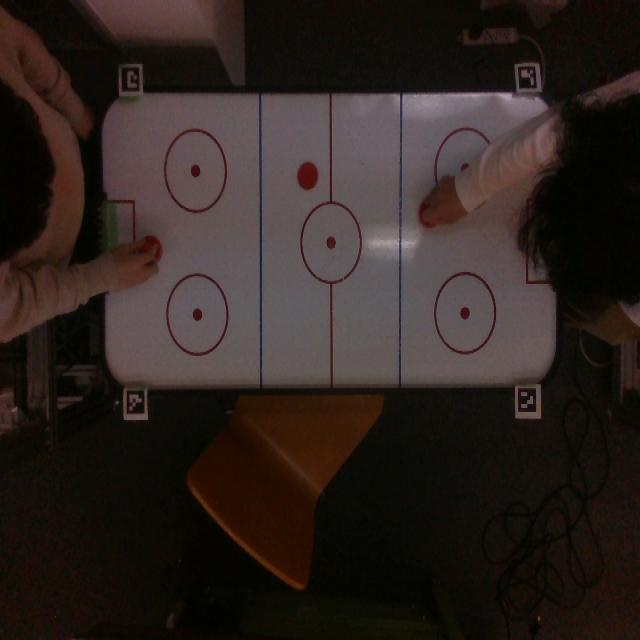puck: (297, 162, 319, 192)
